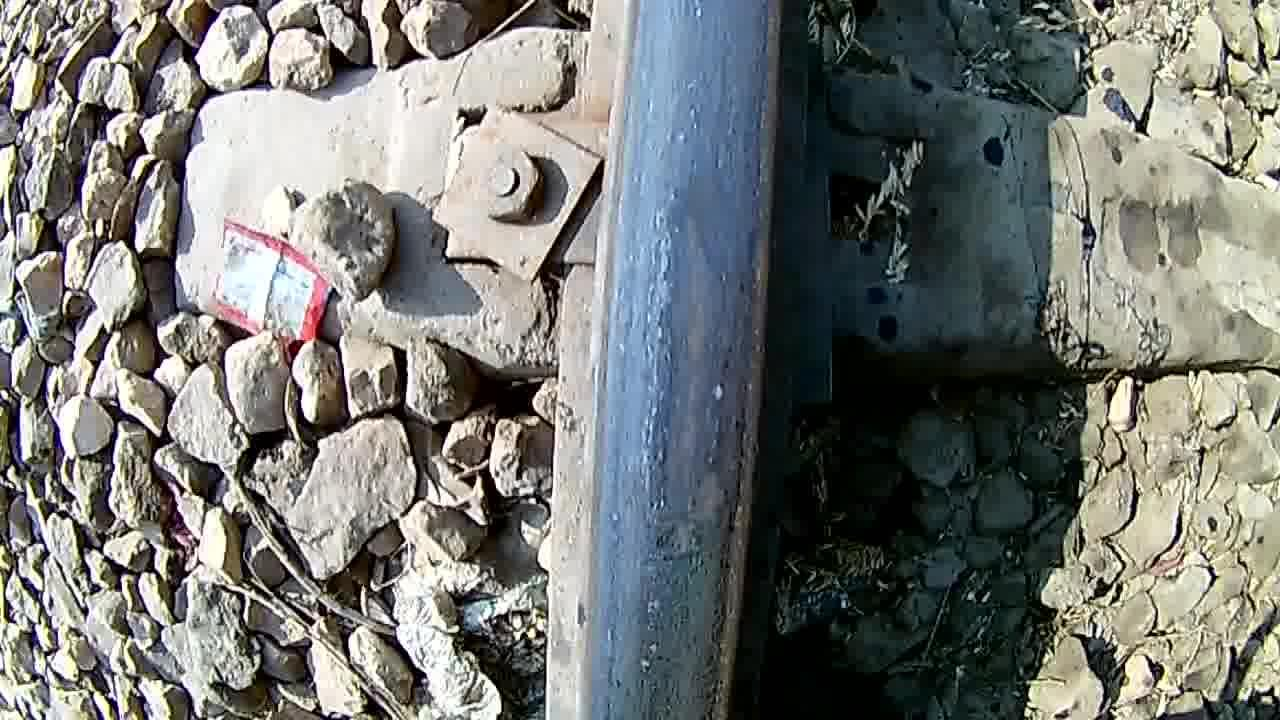bolt_missing: (596, 157, 769, 698)
